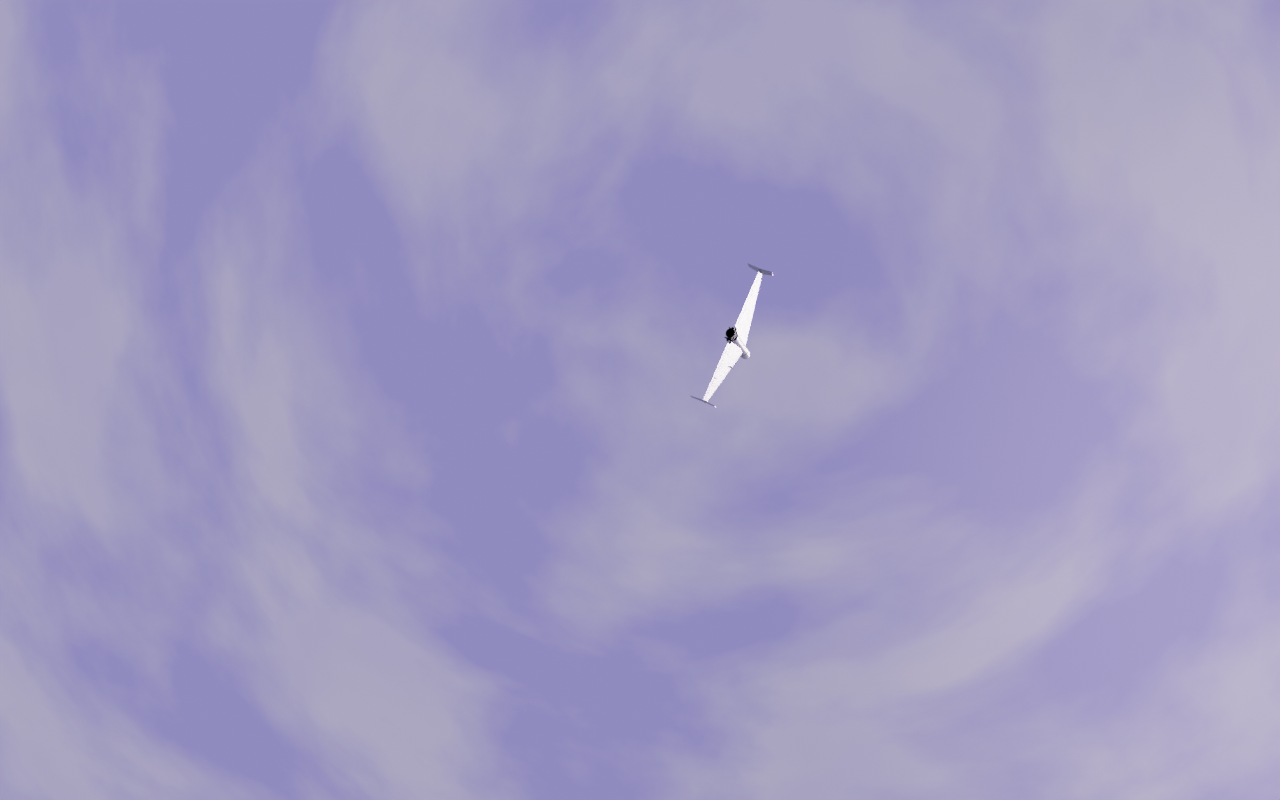shahed: (690, 263, 775, 409)
